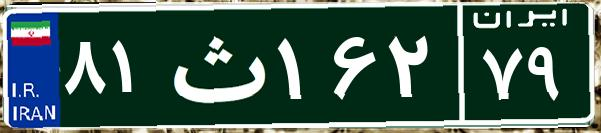1: (273, 28, 330, 110), (110, 28, 158, 105)
2: (385, 28, 445, 110)
6: (330, 28, 385, 110)
7: (475, 38, 525, 113)
8: (57, 26, 110, 107)
9: (525, 38, 570, 115)
ث: (158, 15, 273, 115)
